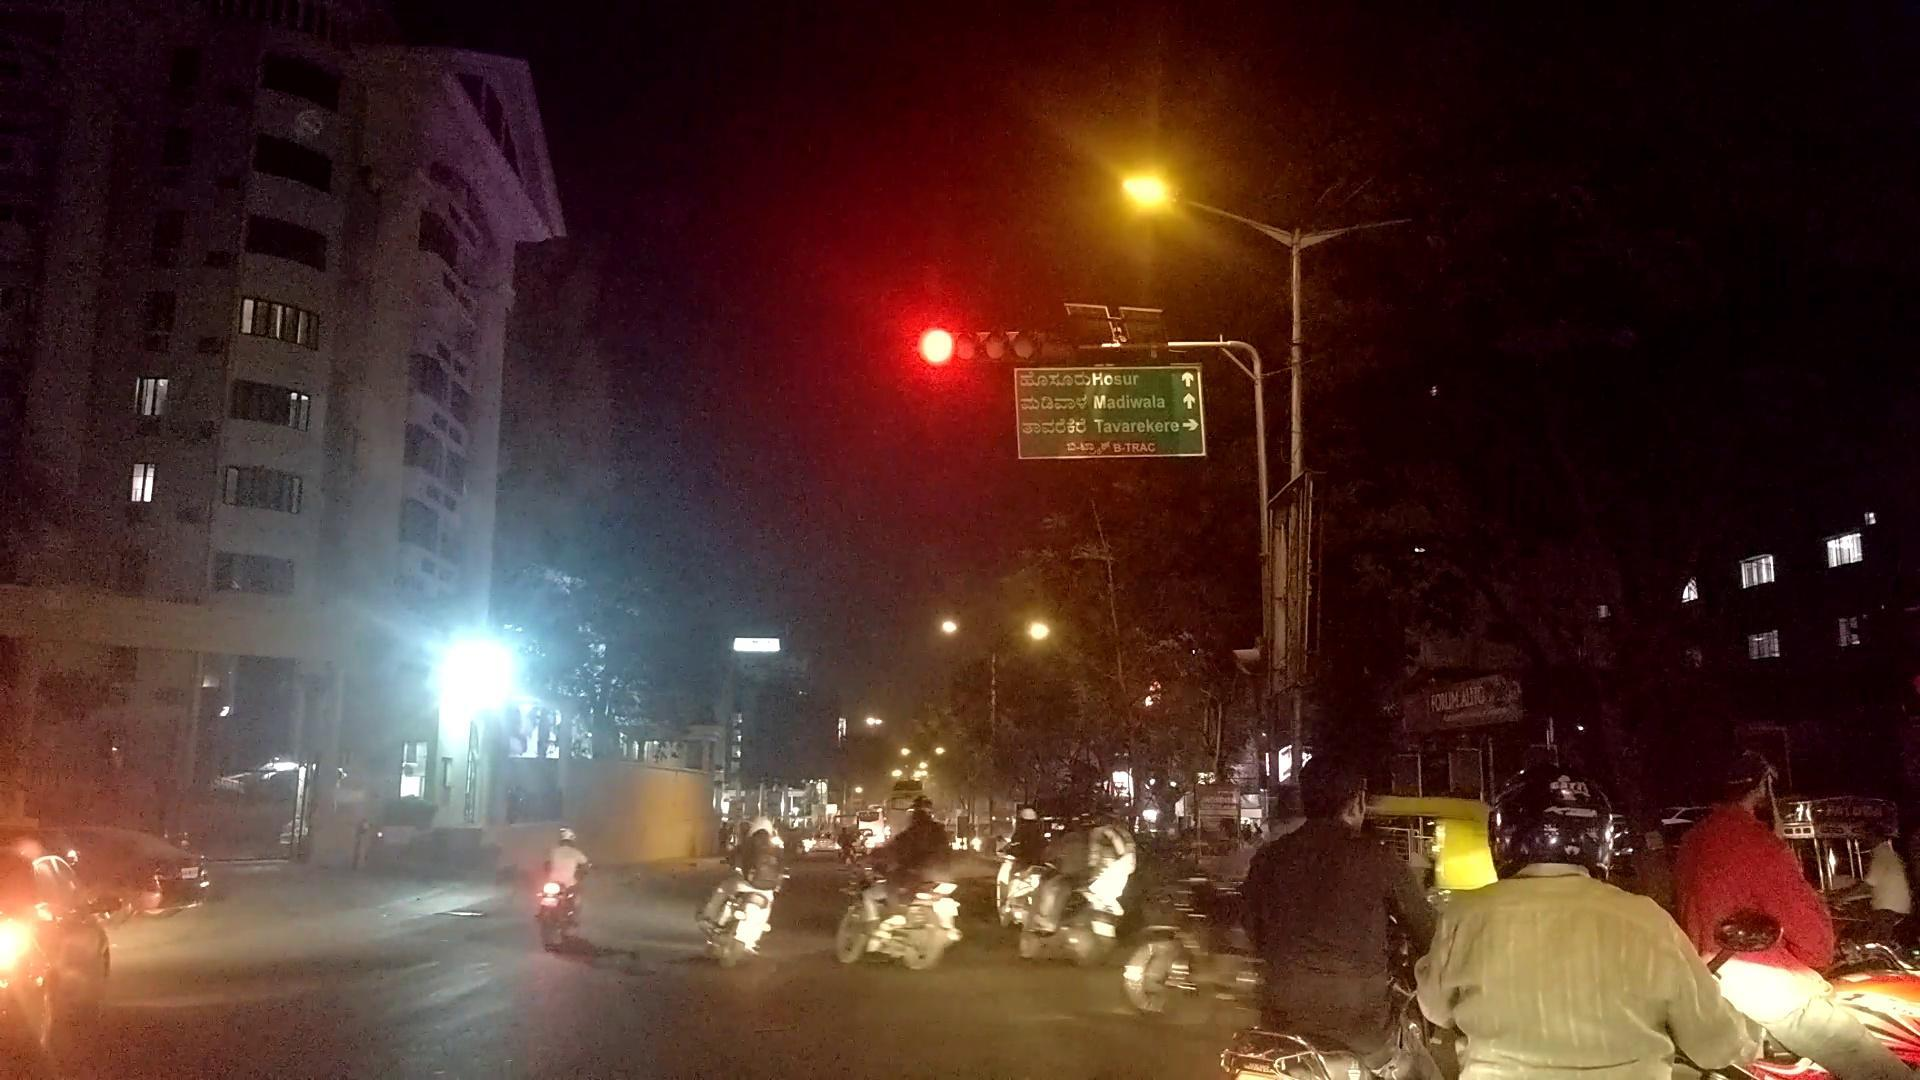on: (1040, 112, 1319, 323)
